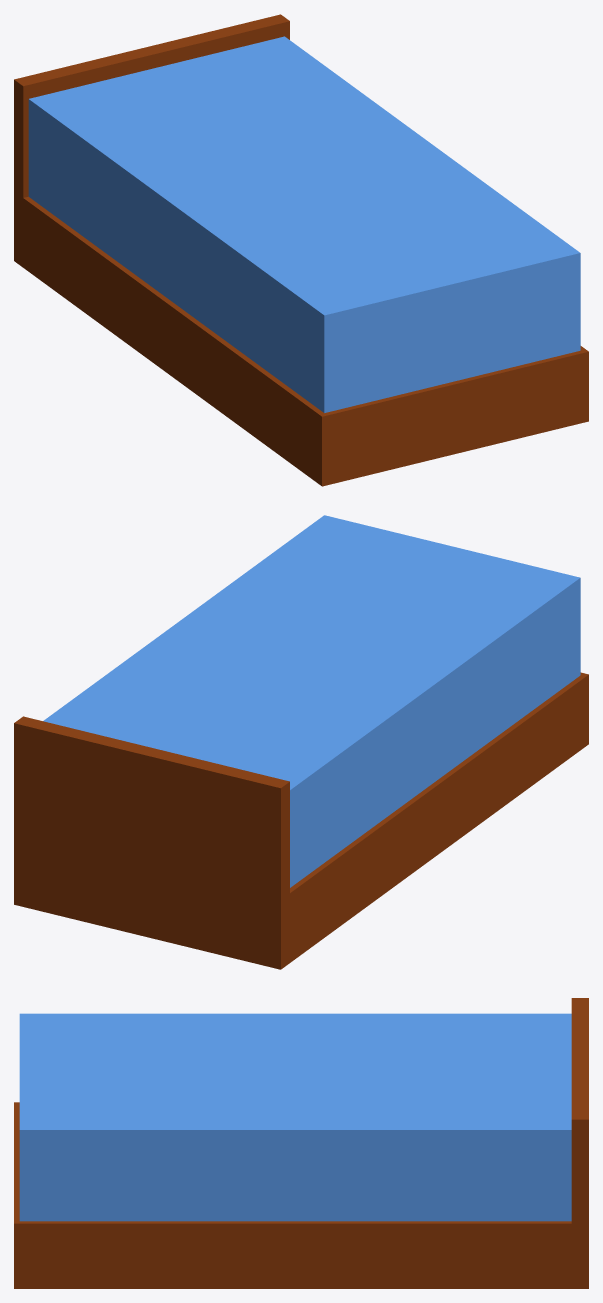
File: bed-single.glb
The picture shows the model from 3 angles, top to bottom: view 1: azimuth 30°, elevation 25°; view 2: azimuth 150°, elevation 25°; view 3: azimuth 270°, elevation 25°; orthographic projection. The views are drawn at different scales.
Size of the model in its own units: 1 by 0.65 by 2.
